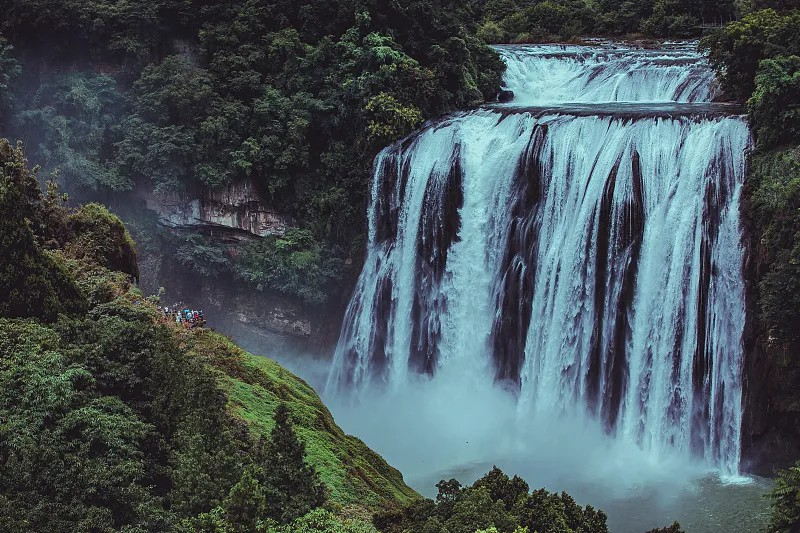Huangguoshu: (338, 45, 746, 481)
